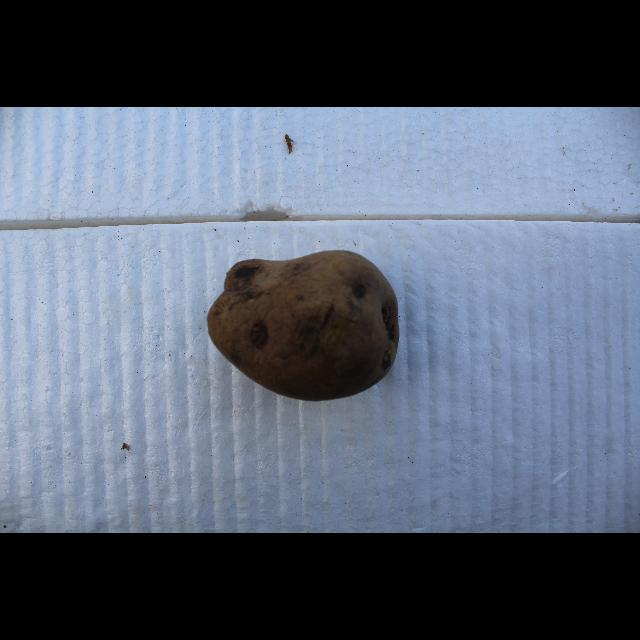Diseased-fungal potato: (202, 248, 404, 407)
